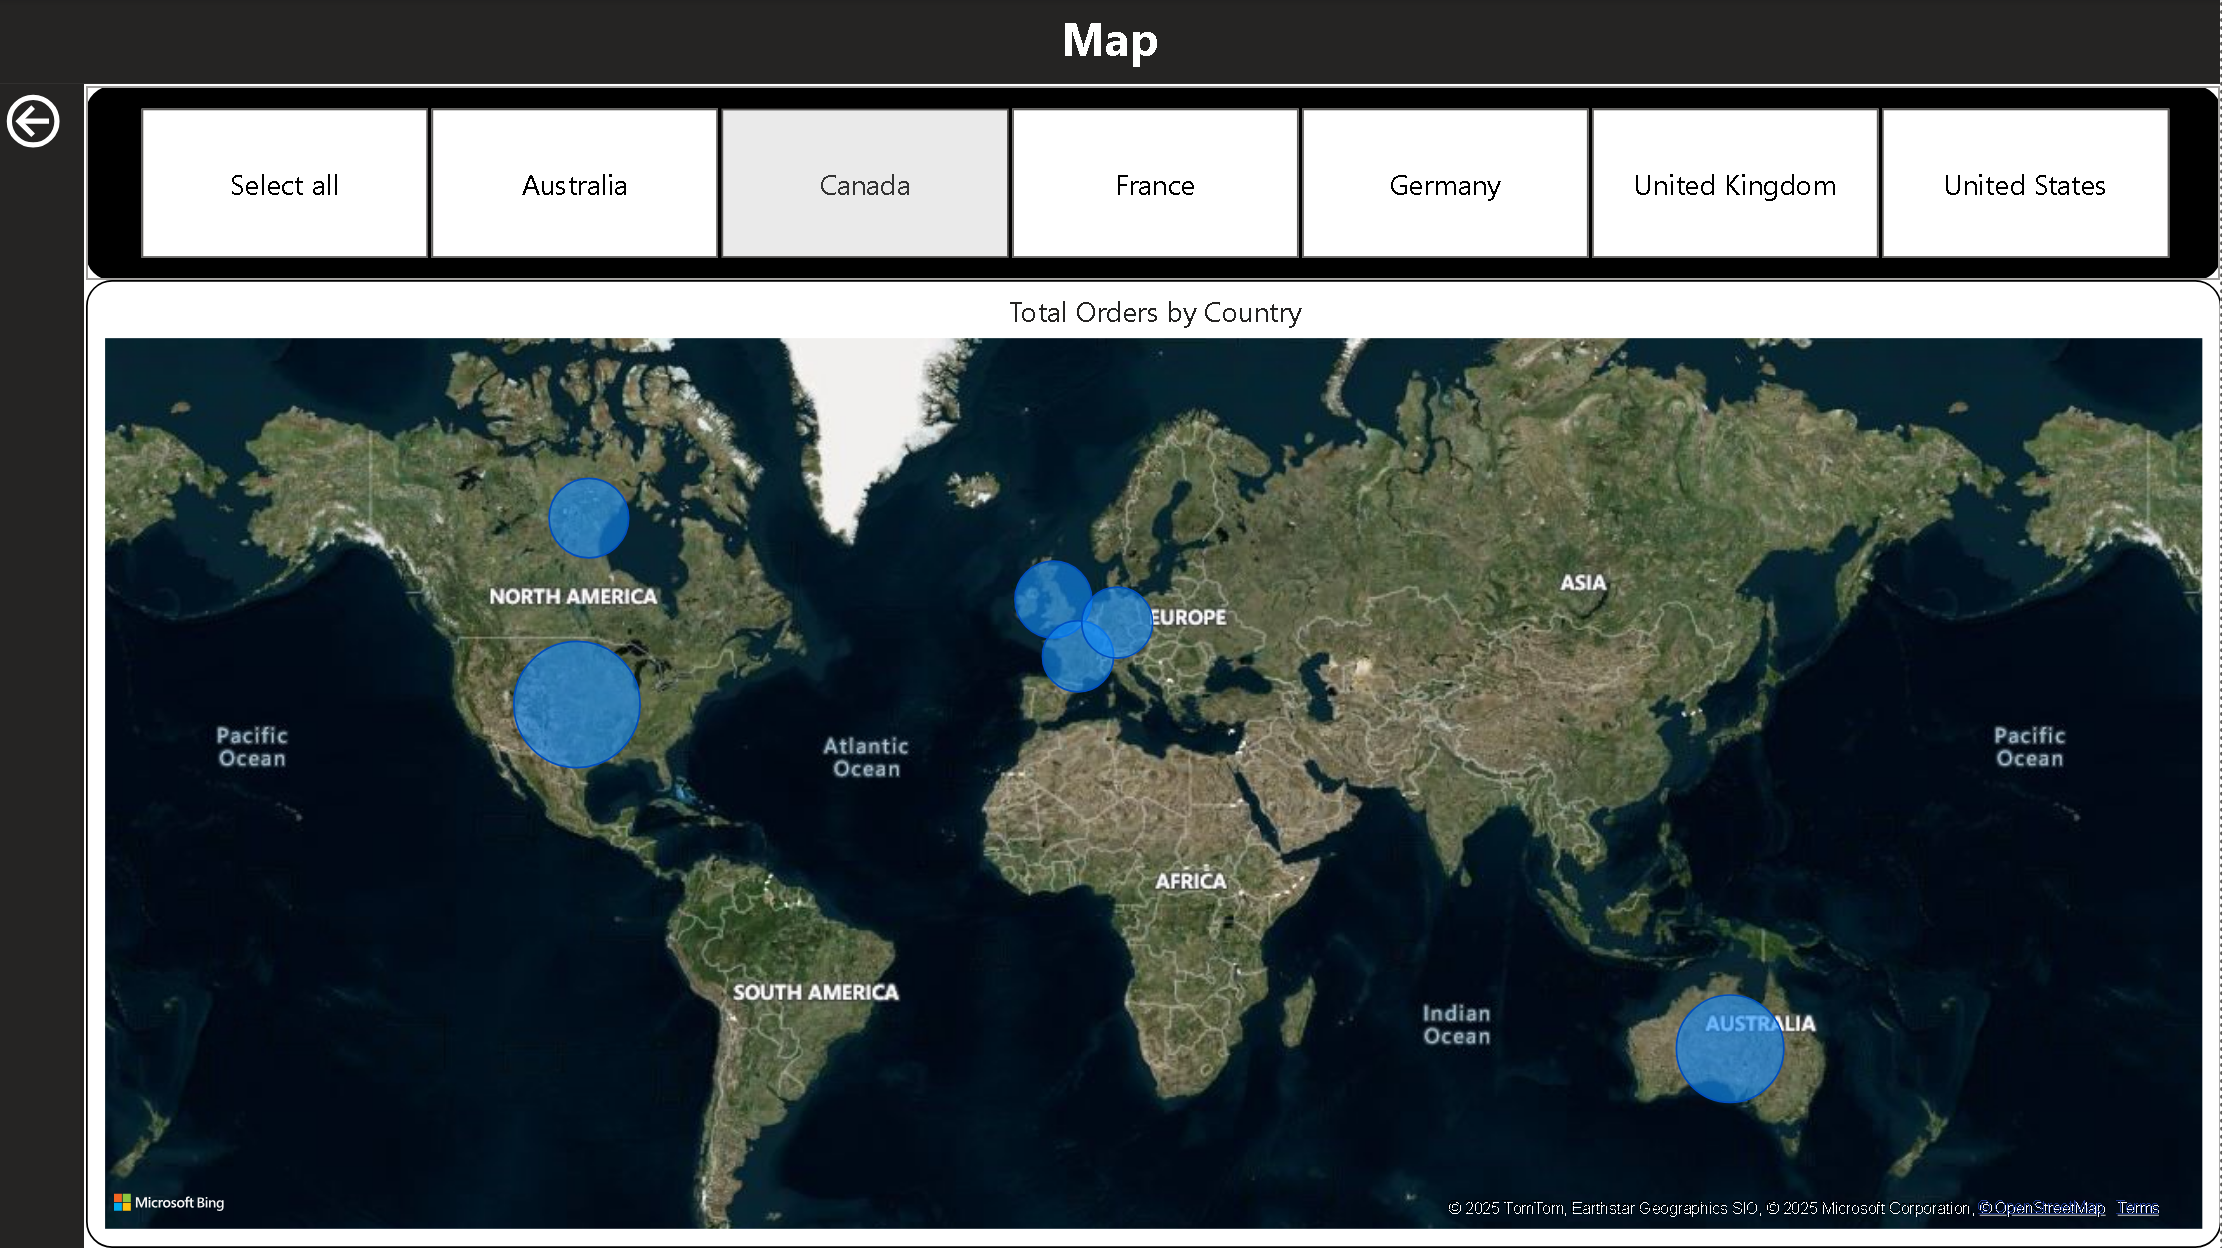

This screenshot's page, from the dashboard's own definition file:
{"tool":"powerbi","page":{"name":"Map","canvas":[1280,720],"ordinal":3},"visuals":[{"type":"textbox","box":[0,0,1281,49.5],"z":0},{"type":"shape","box":[0,49.5,49.5,670.5],"z":1000},{"type":"actionButton","box":[0,50.2,50.2,40.5],"z":1001},{"type":"map","fields":{"Category":["Territory Lookup.Country"],"Size":["measure table.Total Orders"]},"box":[50.2,162,1229.8,557.4],"z":1002},{"type":"slicer","fields":{"Values":["Territory Lookup.Country"]},"box":[50.2,50.2,1229.8,111.8],"z":1003}]}

Visuals, with their boxes in screenshot pixels (x1, y1, x2, y2), scaled from the page's 1280x720 canvas onto the 2222x1248 screenshot:
textbox: 0, 0, 2221, 86
shape: 0, 86, 86, 1247
actionButton: 0, 87, 87, 157
map - Territory Lookup.Country x measure table.Total Orders: 87, 281, 2221, 1247
slicer - Territory Lookup.Country: 87, 87, 2221, 281
